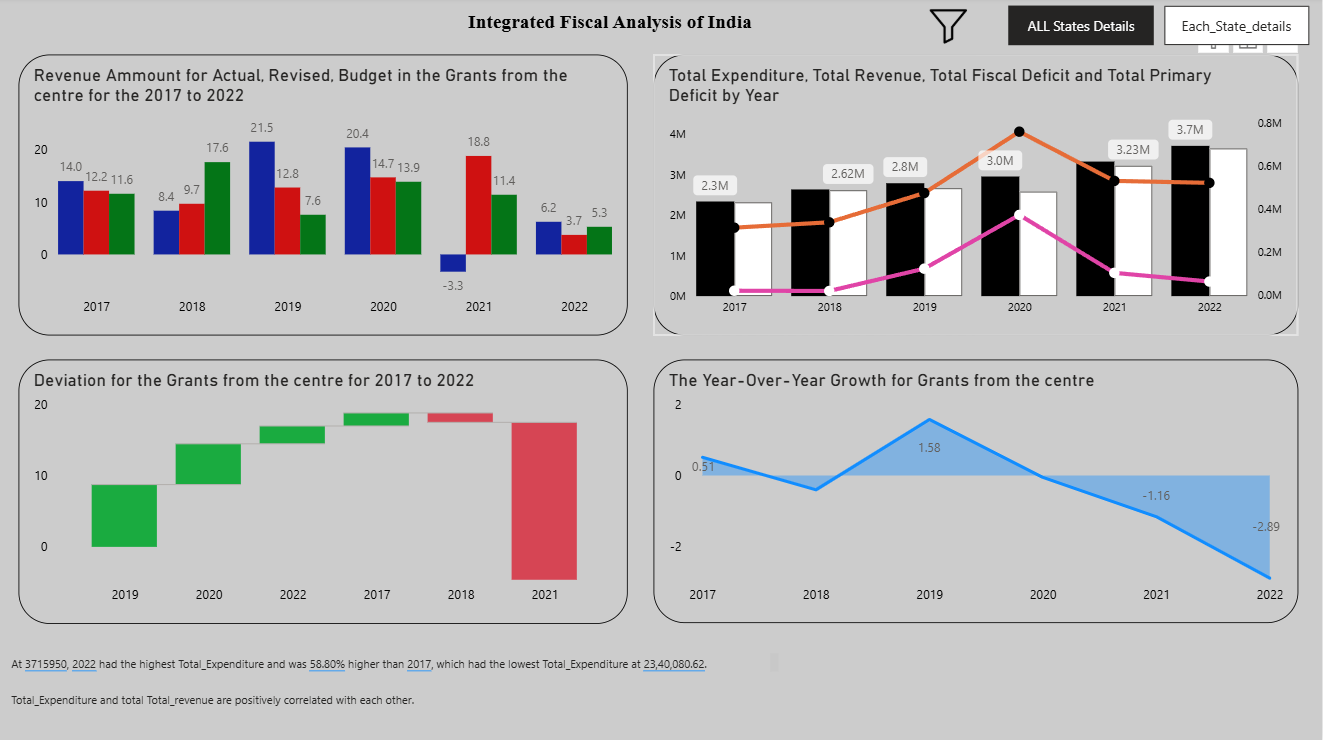

Layout of this report page (visuals, bound fields, positions):
{"tool":"powerbi","page":{"name":"ALL States Details","canvas":[1280,720],"ordinal":0},"visuals":[{"type":"image","box":[896,0,46,56],"z":0},{"type":"lineClusteredColumnComboChart","fields":{"Category":["AllStates_CombinedRevenue.start_year"],"Y":["AllStates_CombinedRevenue.Total_Expenditure","AllStates_CombinedRevenue.Total_revenue"],"Y2":["AllStates_CombinedRevenue.Total_fiscal_deficit","AllStates_CombinedRevenue.Total_primary_deficit"]},"box":[634,56,622,271],"z":0,"group":"g1"},{"type":"clusteredColumnChart","fields":{"Y":["Sum(AllStates_CombinedRevenue.@RevenueValue)"],"Category":["AllStates_CombinedRevenue.start_year"],"Series":["AllStates_CombinedRevenue.Version"]},"box":[22,56,588,271],"z":1000},{"type":"waterfallChart","fields":{"Y":["AllStates_CombinedRevenue.Actual vs Budget Deviation"],"Category":["AllStates_CombinedRevenue.start_year"]},"box":[22,350,588,255],"z":2000},{"type":"stackedAreaChart","fields":{"Category":["AllStates_CombinedRevenue.start_year"],"Series":["AllStates_CombinedRevenue.RevenueType"],"Y":["AllStates_CombinedRevenue.YoY Growth"]},"box":[634.6,349.9,622.5,254.6],"z":3000},{"type":"group","id":"g1","title":"Visual","box":[634,56,622,271],"z":5000},{"type":"pageNavigator","box":[977,9,290,38],"z":6000},{"type":"textbox","box":[9.7,628.6,750.4,79.6],"z":7000},{"type":"textbox","box":[439,9,307,38],"z":8000}]}

Visuals, with their boxes in screenshot pixels (x1, y1, x2, y2), scaled from the page's 1280x720 canvas onto the 1323x740 screenshot:
image: pyautogui.locateOnScreen(926, 0, 974, 58)
lineClusteredColumnComboChart - AllStates_CombinedRevenue.start_year x AllStates_CombinedRevenue.Total_Expenditure: pyautogui.locateOnScreen(655, 58, 1298, 336)
clusteredColumnChart - Sum(AllStates_CombinedRevenue.@RevenueValue) x AllStates_CombinedRevenue.start_year: pyautogui.locateOnScreen(23, 58, 630, 336)
waterfallChart - AllStates_CombinedRevenue.Actual vs Budget Deviation x AllStates_CombinedRevenue.start_year: pyautogui.locateOnScreen(23, 360, 630, 622)
stackedAreaChart - AllStates_CombinedRevenue.start_year x AllStates_CombinedRevenue.RevenueType: pyautogui.locateOnScreen(656, 360, 1299, 621)
"Visual" group: pyautogui.locateOnScreen(655, 58, 1298, 336)
pageNavigator: pyautogui.locateOnScreen(1010, 9, 1310, 48)
textbox: pyautogui.locateOnScreen(10, 646, 786, 728)
textbox: pyautogui.locateOnScreen(454, 9, 771, 48)
